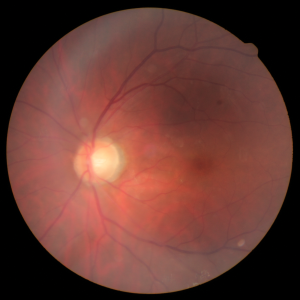glaucoma: (41, 105, 231, 215)
